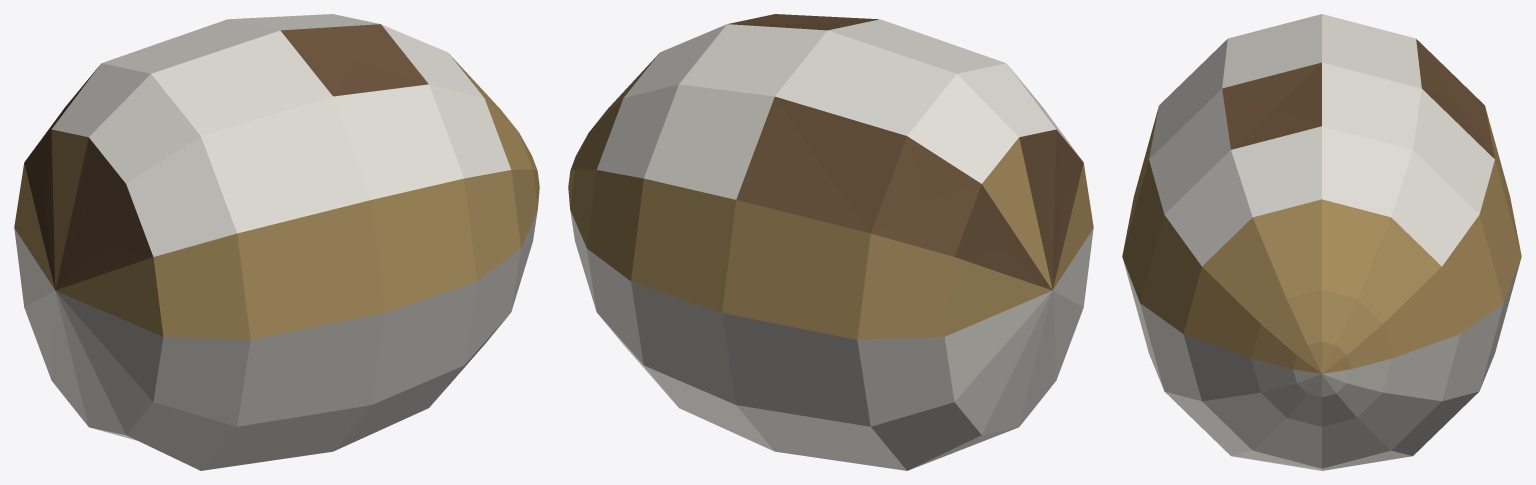
File: farm_egg.glb
3 renders of one model, left to right at view 1: azimuth 30°, elevation 25°; view 2: azimuth 150°, elevation 25°; view 3: azimuth 270°, elevation 25°, orthographic. The views are drawn at different scales.
Visible parts, largest first — view 1: farm_egg; view 2: farm_egg; view 3: farm_egg.
Part boxes in pixels (bbox=[...]): farm_egg: bbox=[14, 14, 539, 470]; farm_egg: bbox=[568, 14, 1093, 470]; farm_egg: bbox=[1122, 14, 1521, 470].
Size of the model in its own units: 0.055 by 0.042 by 0.042.
